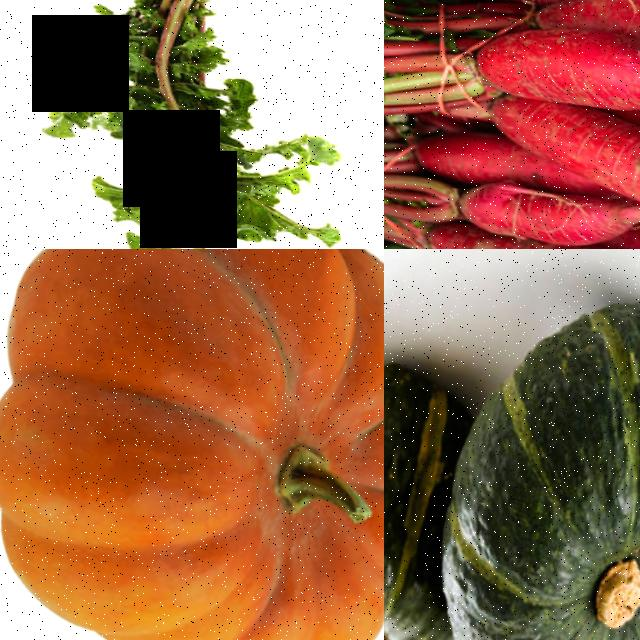pumpkin: (0, 249, 384, 640), (391, 271, 640, 640), (384, 327, 487, 640)
radishes: (37, 0, 351, 155), (384, 0, 640, 142), (456, 89, 640, 249), (384, 186, 640, 249)
